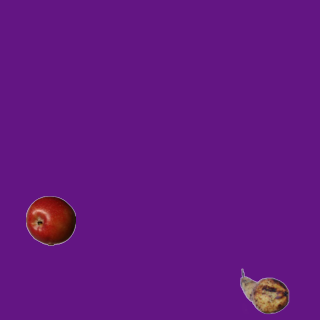Apple Braeburn: (25, 195, 75, 245)
Pear Abate: (239, 266, 289, 316)
